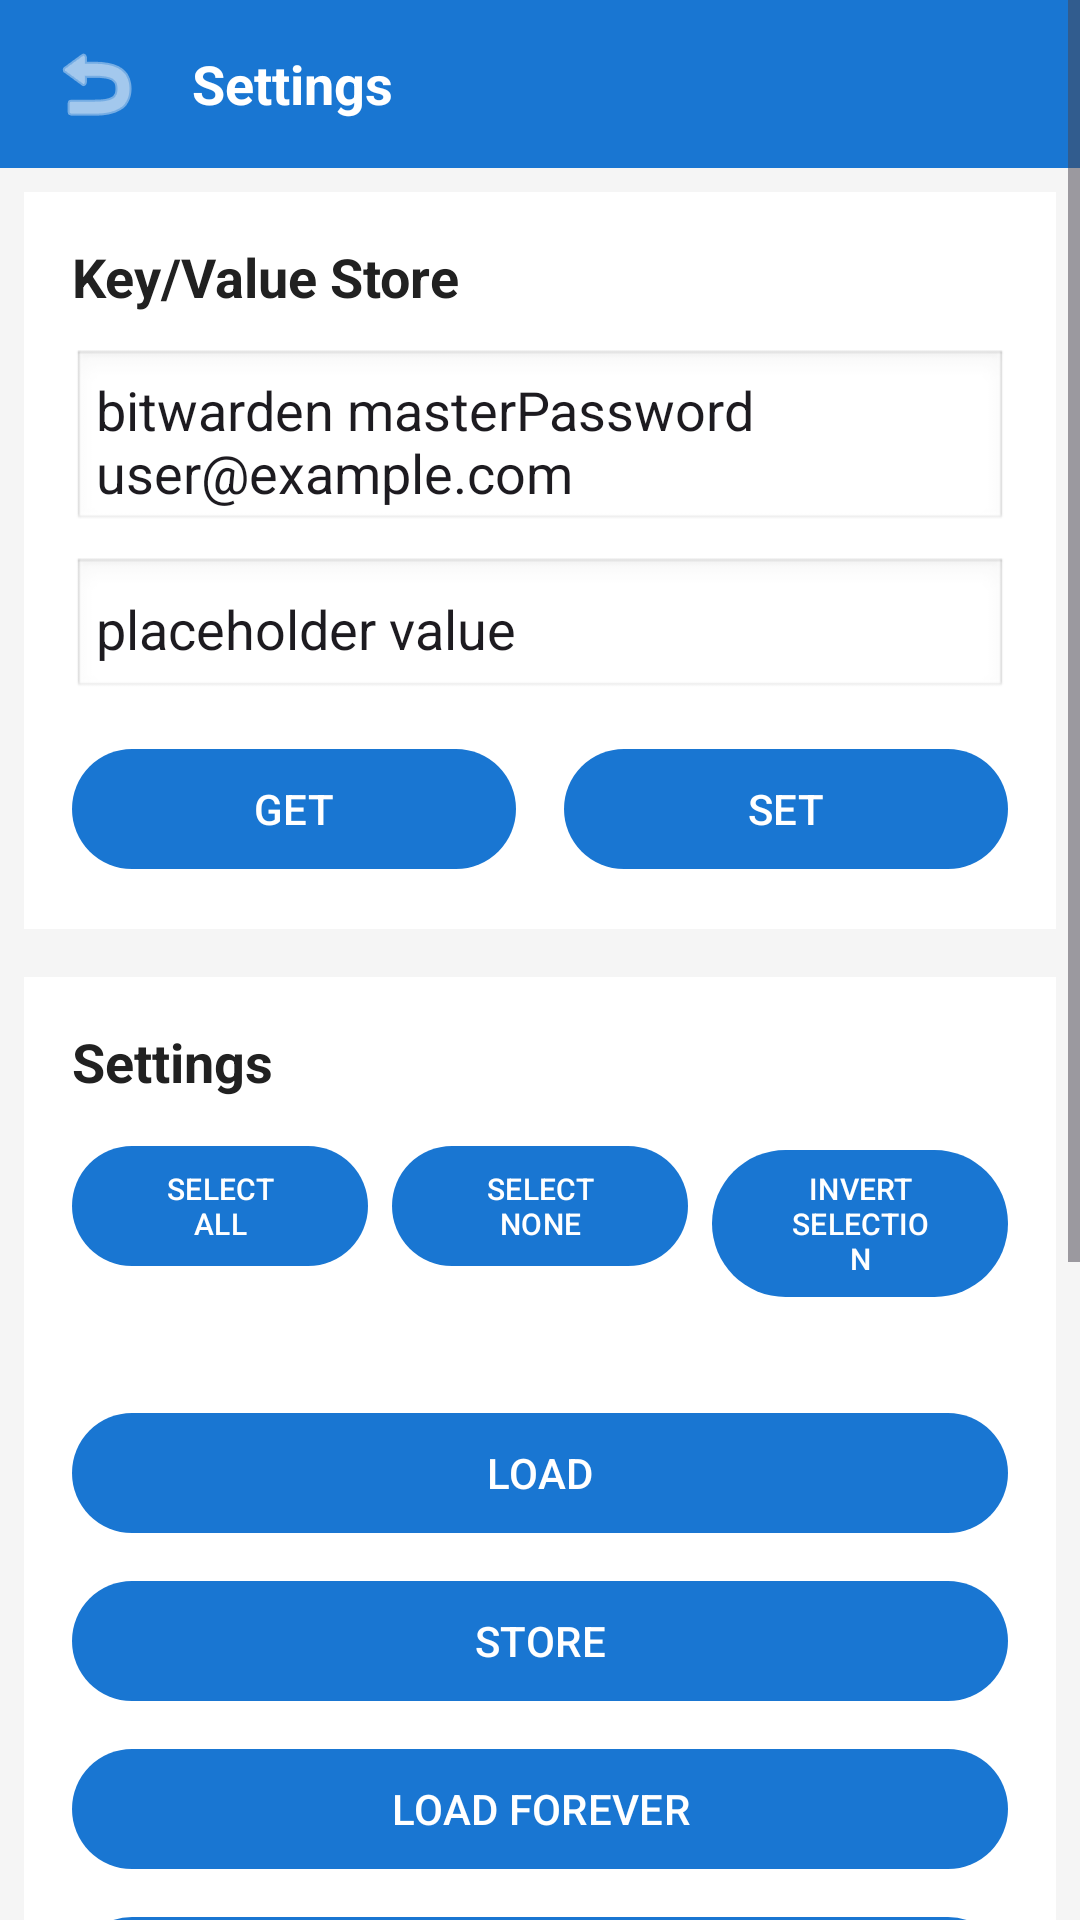

Screen size 1080w x 1920h. Icon name, then its box in pixels as bbox=(x1, y1, x2, y2):
Back: bbox=(63, 53, 132, 116)
